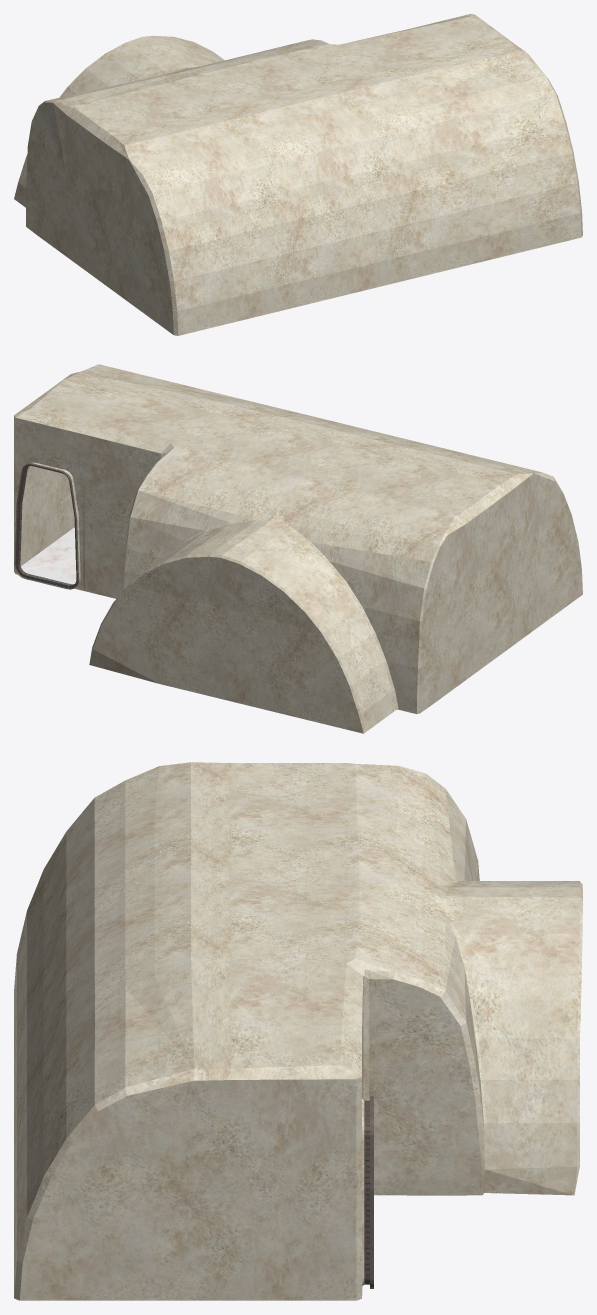
File: ply_tato_assoc_hall_civ_s02_r18_bedroom5_mesh_r18.fbx
The picture shows the model from 3 angles, top to bottom: view 1: azimuth 30°, elevation 25°; view 2: azimuth 150°, elevation 25°; view 3: azimuth 270°, elevation 25°; orthographic projection. The views are drawn at different scales.
Visible parts, largest first — view 1: mesh_node; view 2: mesh_node; view 3: mesh_node.
Boxes of the visible parts, box(x1,y1,x2,y2) form: mesh_node: box(14, 14, 582, 335); mesh_node: box(14, 364, 582, 733); mesh_node: box(14, 762, 582, 1300).
Bounding box in the file's own units: 12.94 × 4.48 × 9.97.
